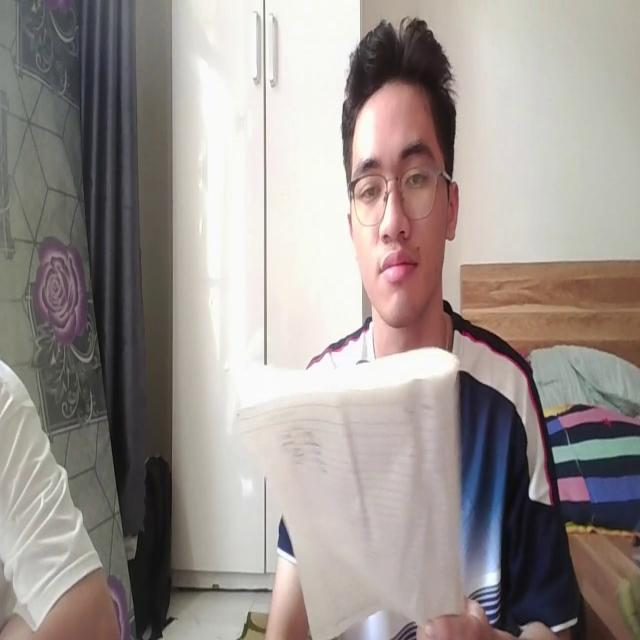book: (230, 339, 476, 640)
student: (221, 9, 577, 640)
